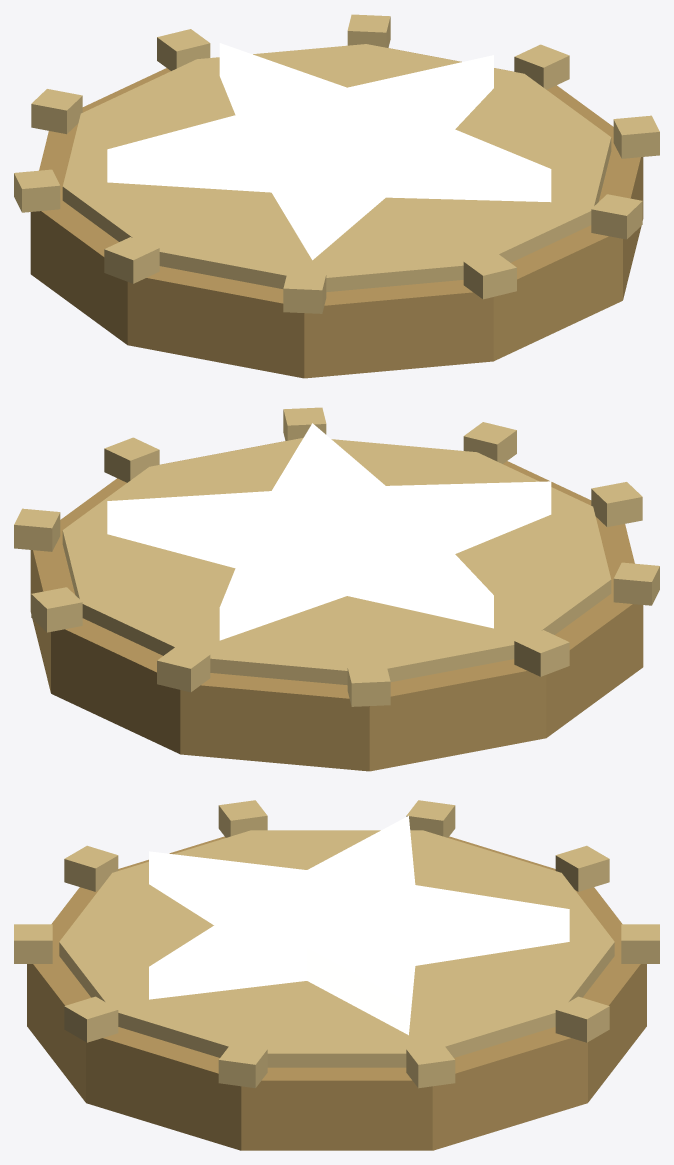
The model's file is sb_twinkle_token.glb.
The picture shows the model from 3 angles, top to bottom: view 1: azimuth 30°, elevation 25°; view 2: azimuth 150°, elevation 25°; view 3: azimuth 270°, elevation 25°; orthographic projection.
Visible parts, largest first — view 1: twinkle_token; view 2: twinkle_token; view 3: twinkle_token.
Boxes of the visible parts, bbox=[...] form: twinkle_token: bbox=[14, 14, 659, 378]; twinkle_token: bbox=[14, 407, 659, 771]; twinkle_token: bbox=[14, 800, 659, 1150].
Size of the model in its own units: 0.4848 by 0.1 by 0.5.
